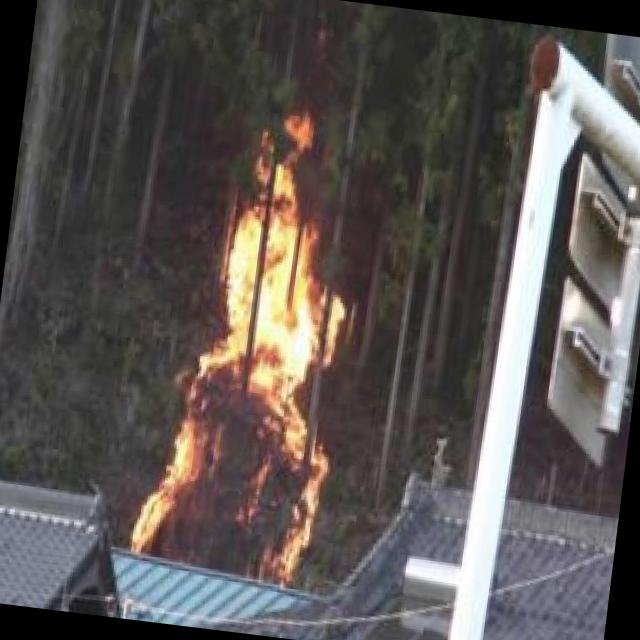Fire: (132, 92, 372, 590)
